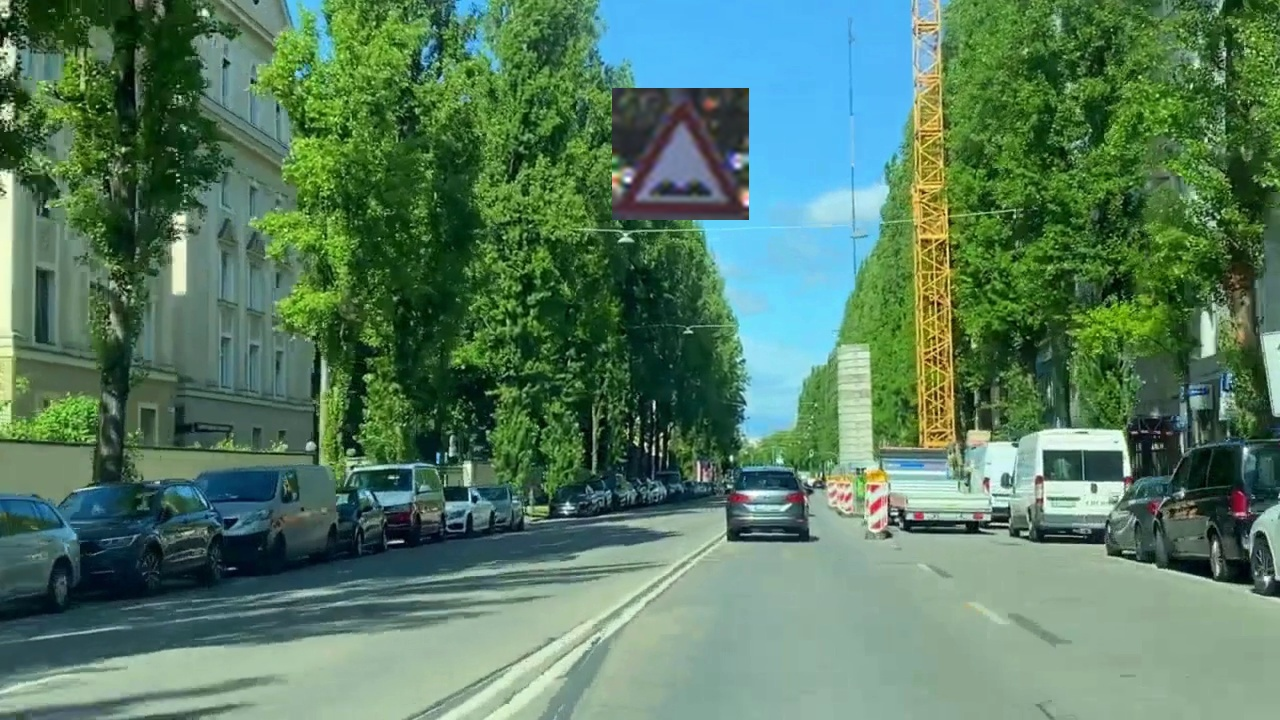Bumpy road: (612, 88, 749, 220)
